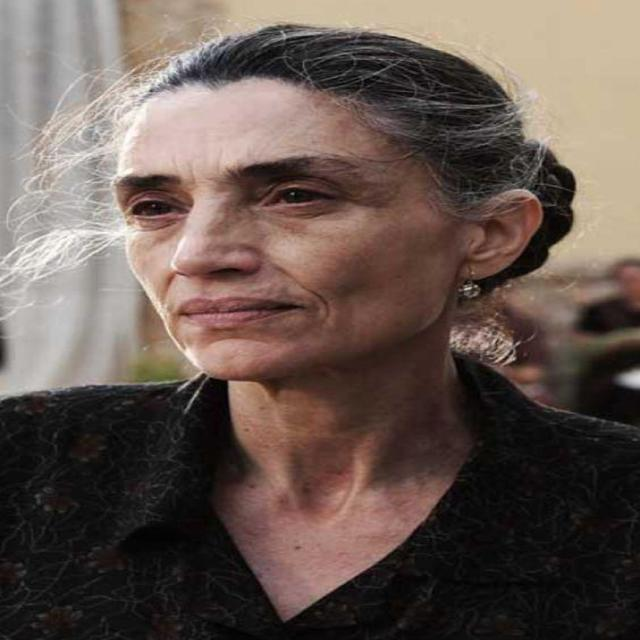Wrinkles: (271, 259, 334, 332)
